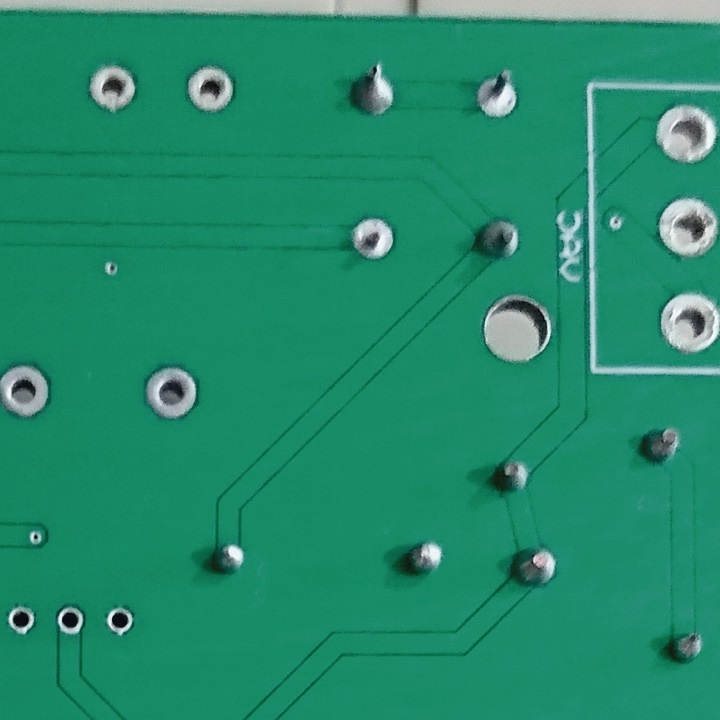F: (650, 99, 720, 166), (654, 194, 720, 261), (658, 289, 720, 355), (141, 362, 200, 426), (181, 63, 239, 119), (1, 360, 53, 421), (86, 61, 141, 115), (474, 67, 521, 121), (350, 214, 399, 265), (101, 603, 137, 640), (3, 604, 38, 639), (55, 603, 86, 640)
